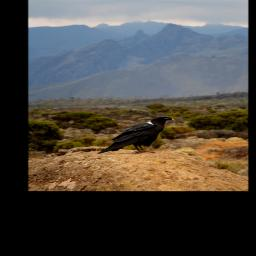Crow: (95, 115, 175, 156)
